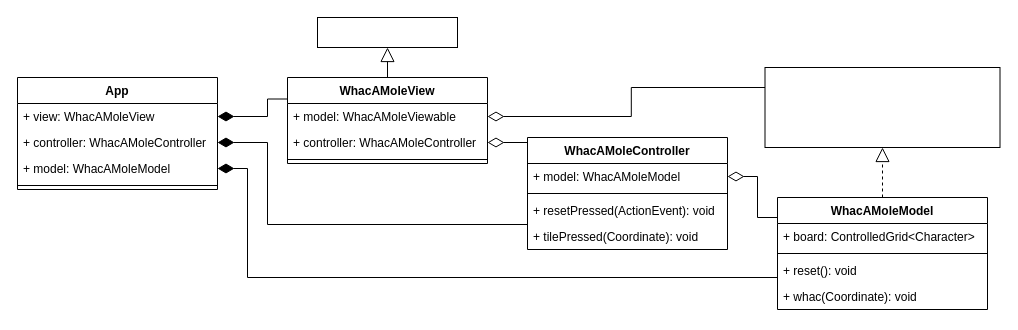
This 1018x330 diagram has some shape labels left out. Each missing label, with the centre of its shape:
"<<Interface>> WhacAMoleViewable + getBoard(): GridObservable<Character>" goes at [882,107].
"JPanel" goes at [387,32].
